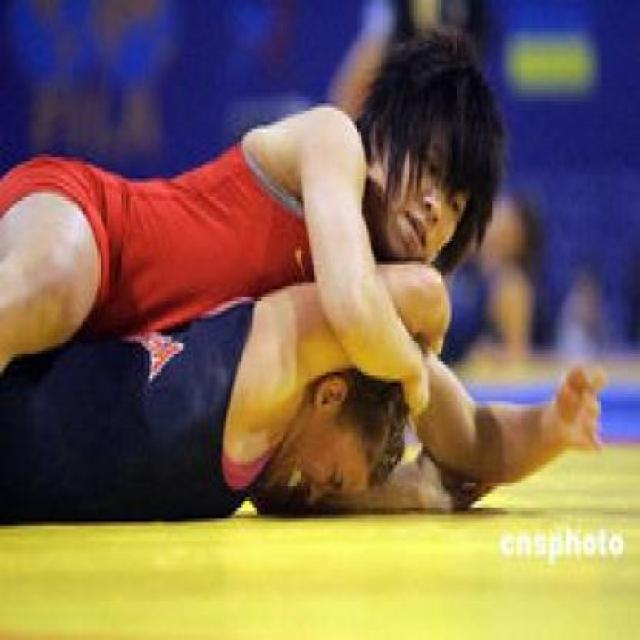fall: (5, 32, 557, 532)
